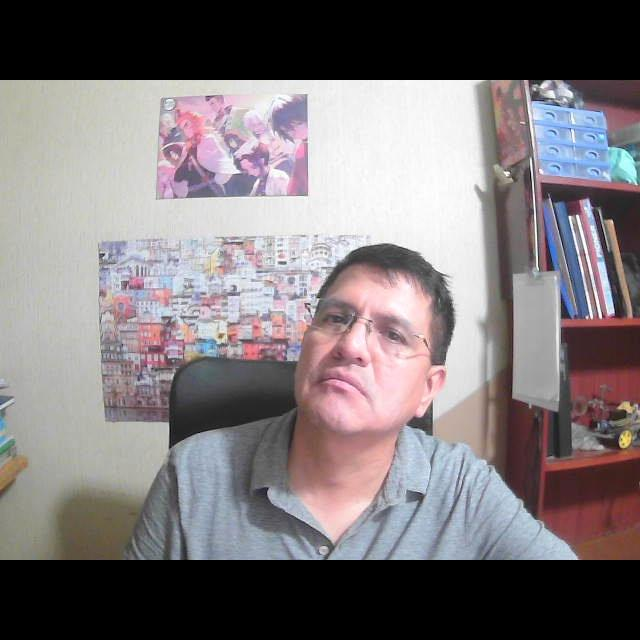cesar: (276, 230, 470, 478)
